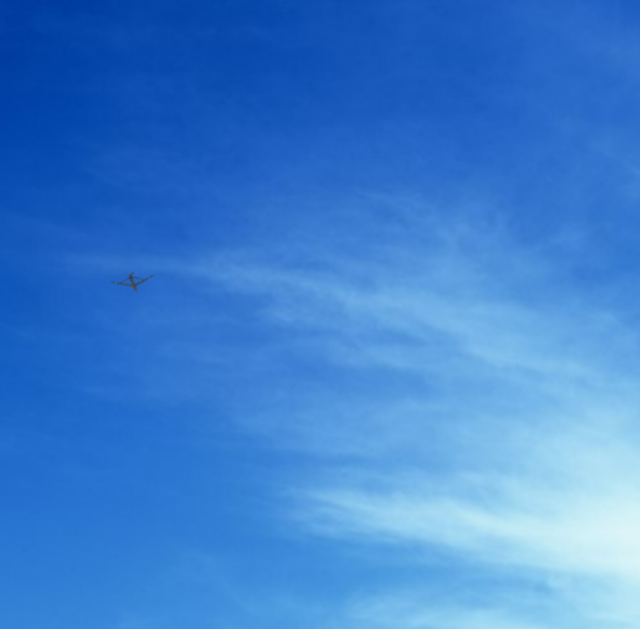military drone: (109, 271, 153, 291)
